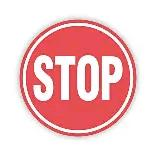Stop: (20, 21, 135, 134)
